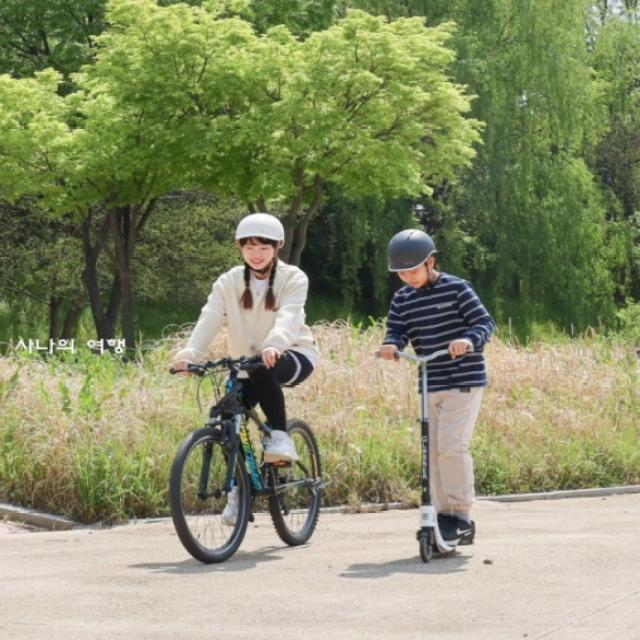helmet: (155, 180, 344, 582), (354, 188, 540, 592)
